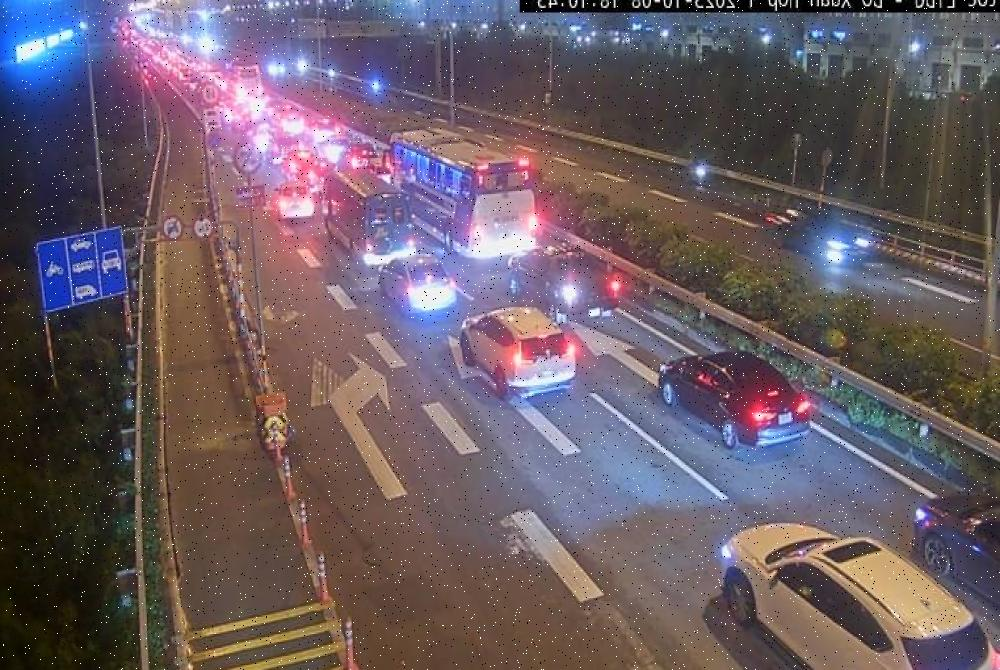bus: (384, 127, 538, 260)
car: (719, 518, 1000, 670), (656, 352, 808, 451), (916, 492, 1000, 636), (459, 306, 578, 403)
